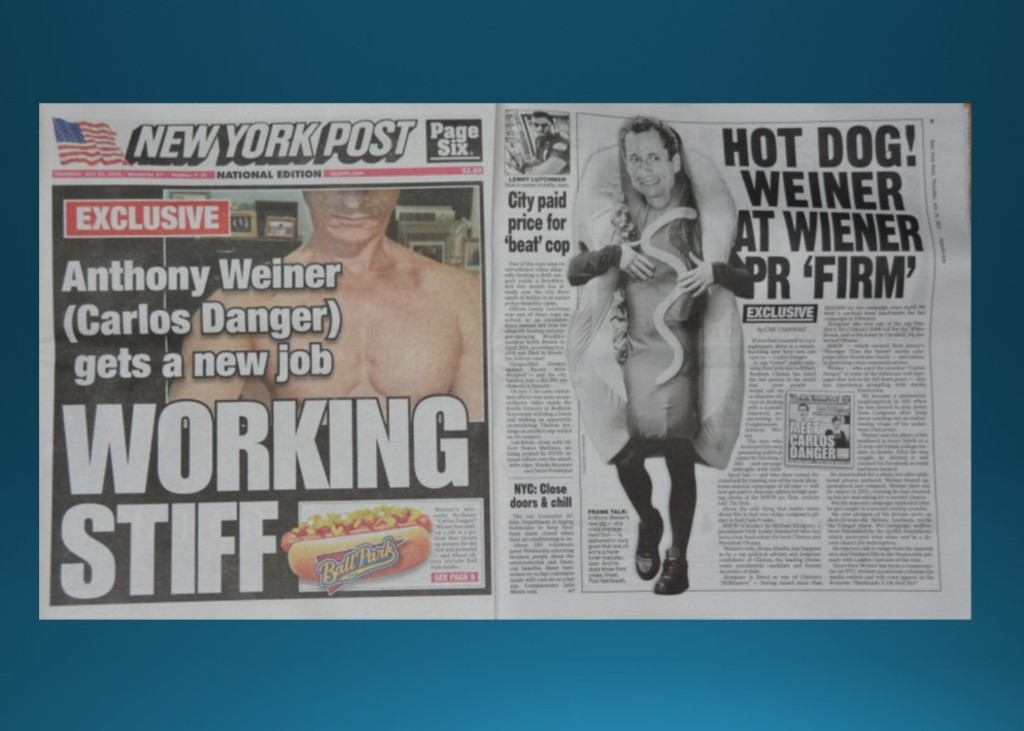Human_hand: (676, 252, 711, 299), (621, 239, 655, 285), (511, 156, 528, 170)
